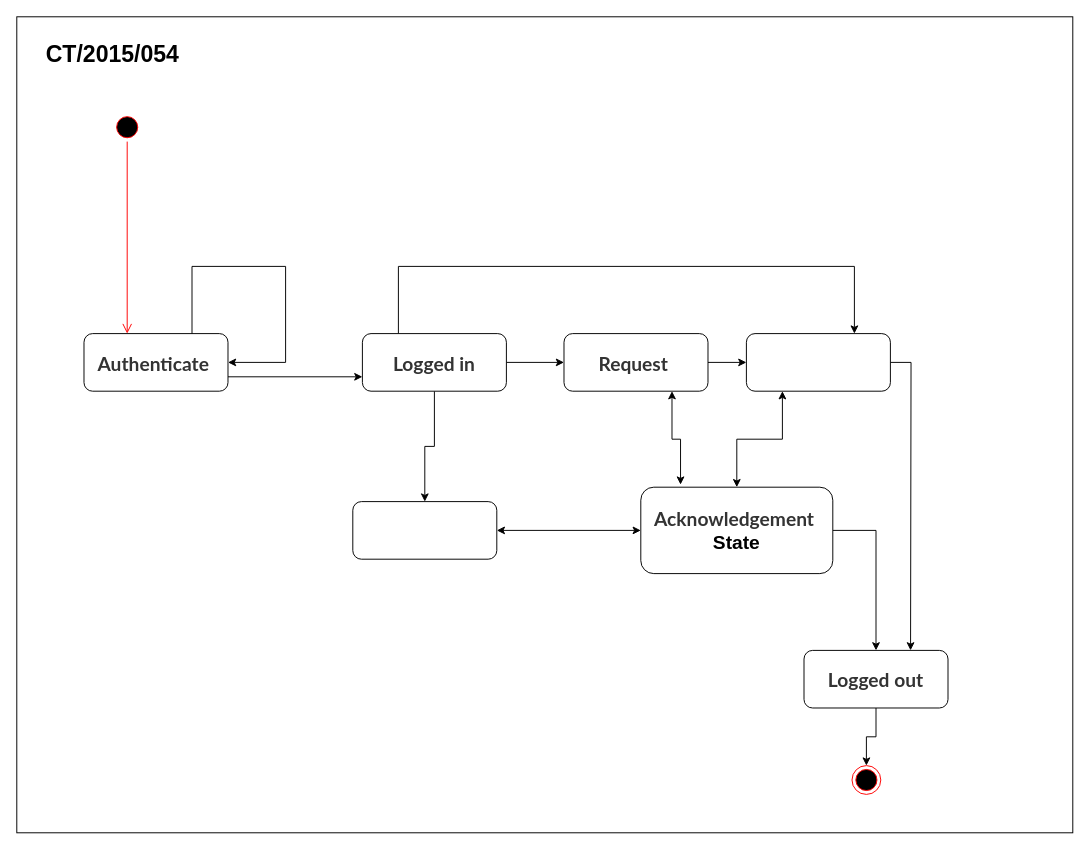
This 1090x850 diagram has some shape labels left out. Here are the shapes that lost their labels. From the top down, the centre of each, then its label:
(817,362): Provide Book
(424,530): Search
